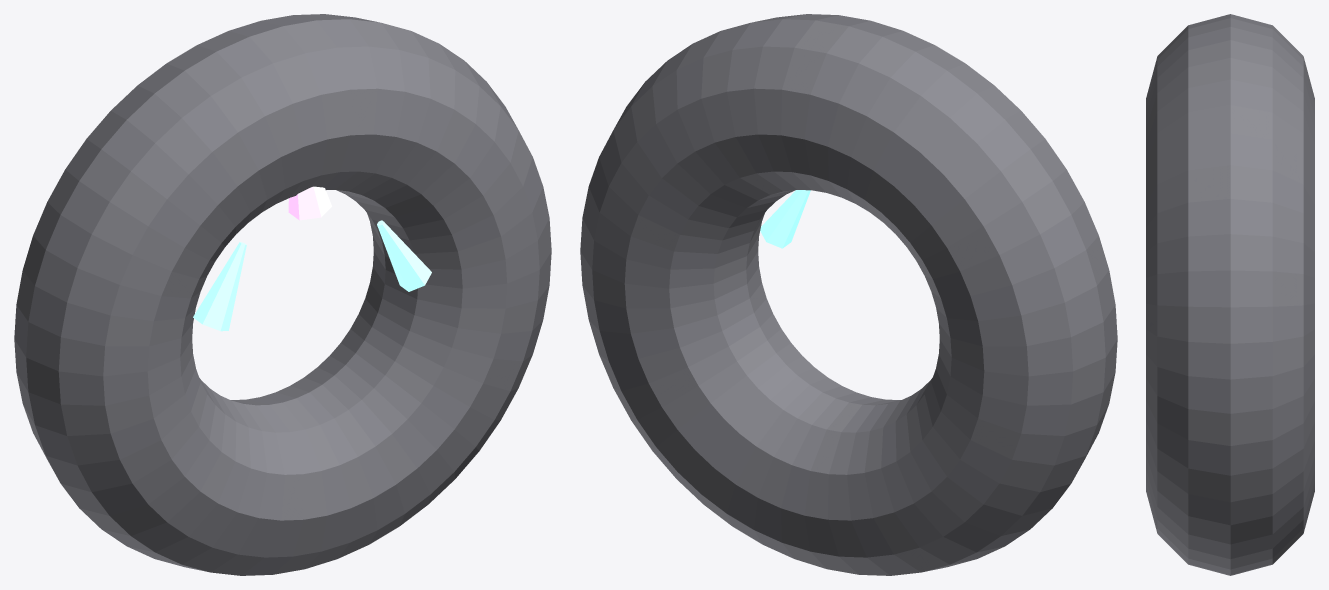
File: crystal_cave.glb
3 renders of one model, left to right at view 1: azimuth 30°, elevation 25°; view 2: azimuth 150°, elevation 25°; view 3: azimuth 270°, elevation 25°, orthographic. The views are drawn at different scales.
Parts seen in each view (by area): view 1: Kristallhoehle, Kristallhoehle_Crys_0, Kristallhoehle_Crys_2, Kristallhoehle_Crys_1; view 2: Kristallhoehle, Kristallhoehle_Crys_2; view 3: Kristallhoehle.
Part boxes in pixels (bbox=[...]): Kristallhoehle: bbox=[14, 14, 551, 575]; Kristallhoehle_Crys_0: bbox=[193, 242, 246, 331]; Kristallhoehle_Crys_2: bbox=[377, 220, 431, 291]; Kristallhoehle_Crys_1: bbox=[288, 186, 331, 220]; Kristallhoehle: bbox=[580, 14, 1117, 575]; Kristallhoehle_Crys_2: bbox=[760, 190, 810, 248]; Kristallhoehle: bbox=[1146, 14, 1314, 575].
Size of the model in its own units: 3 by 3 by 0.9.
